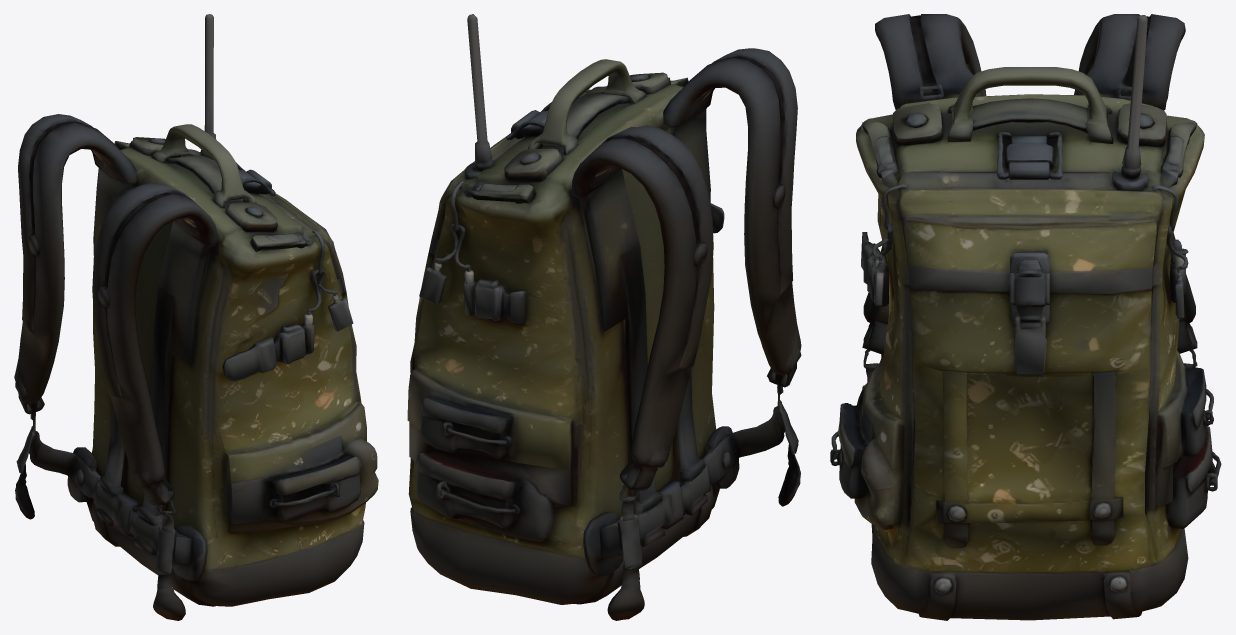
The model's file is mer_radio_backpack.glb.
3 views of the same model, side by side, from view 1: azimuth 30°, elevation 25°; view 2: azimuth 150°, elevation 25°; view 3: azimuth 270°, elevation 25° (orthographic). The views are drawn at different scales.
Visible parts, largest first — view 1: tripo_node_254d8034-fd76-4caa-8b75-29ac752a5a79; view 2: tripo_node_254d8034-fd76-4caa-8b75-29ac752a5a79; view 3: tripo_node_254d8034-fd76-4caa-8b75-29ac752a5a79.
Part boxes in pixels (left/top/right/bottom): tripo_node_254d8034-fd76-4caa-8b75-29ac752a5a79: left=14, top=14, right=378, bottom=620; tripo_node_254d8034-fd76-4caa-8b75-29ac752a5a79: left=407, top=14, right=801, bottom=620; tripo_node_254d8034-fd76-4caa-8b75-29ac752a5a79: left=830, top=14, right=1221, bottom=620.
Bounding box in the file's own units: 0.541 × 0.998 × 0.5996.
Materials: 1 (1 with a texture image).
